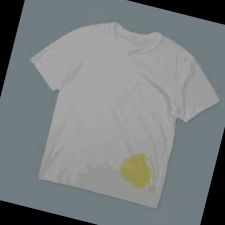mustard: (118, 147, 156, 188), (149, 184, 160, 196)
